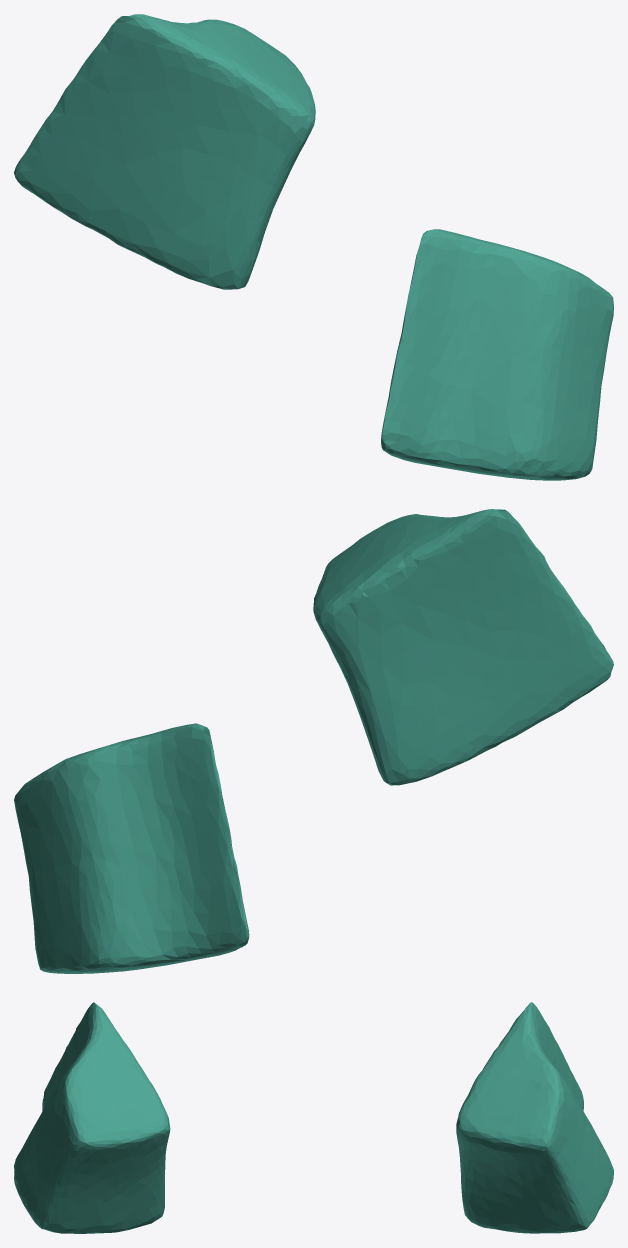
3 renders of one model, top to bottom at view 1: azimuth 30°, elevation 25°; view 2: azimuth 150°, elevation 25°; view 3: azimuth 270°, elevation 25°, orthographic. The views are drawn at different scales.
Parts seen in each view (by area): view 1: 337.obj; view 2: 337.obj; view 3: 337.obj.
Boxes of the visible parts, bbox=[...] form: 337.obj: bbox=[14, 14, 613, 480]; 337.obj: bbox=[14, 509, 613, 973]; 337.obj: bbox=[14, 1002, 613, 1233].
Bounding box in the file's own units: 1745 × 1721 × 4784.
